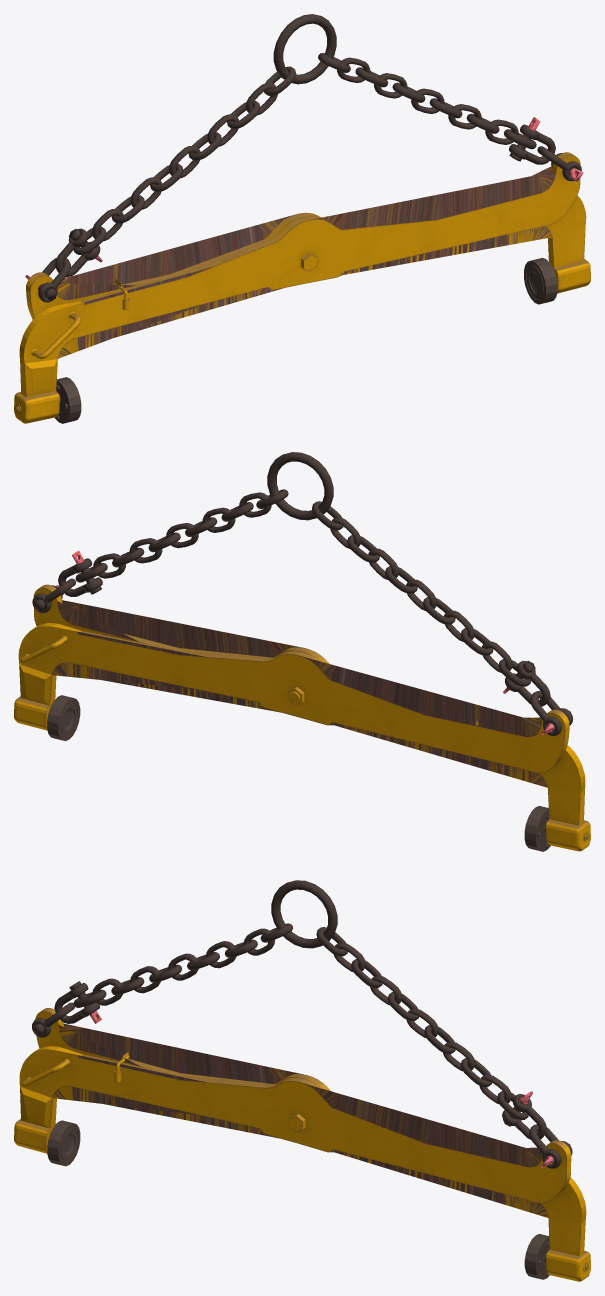
File: JawTong.fbx
3 views of the same model, one above another, from view 1: azimuth 30°, elevation 25°; view 2: azimuth 150°, elevation 25°; view 3: azimuth 330°, elevation 25° (orthographic).
Parts seen in each view (by area): view 1: Jaw Tong; view 2: Jaw Tong; view 3: Jaw Tong.
Part boxes in pixels (left/top/right/bottom): Jaw Tong: left=14, top=14, right=590, bottom=423; Jaw Tong: left=14, top=452, right=590, bottom=851; Jaw Tong: left=14, top=880, right=590, bottom=1281.
Bounding box in the file's own units: 1942 × 1114 × 171.
